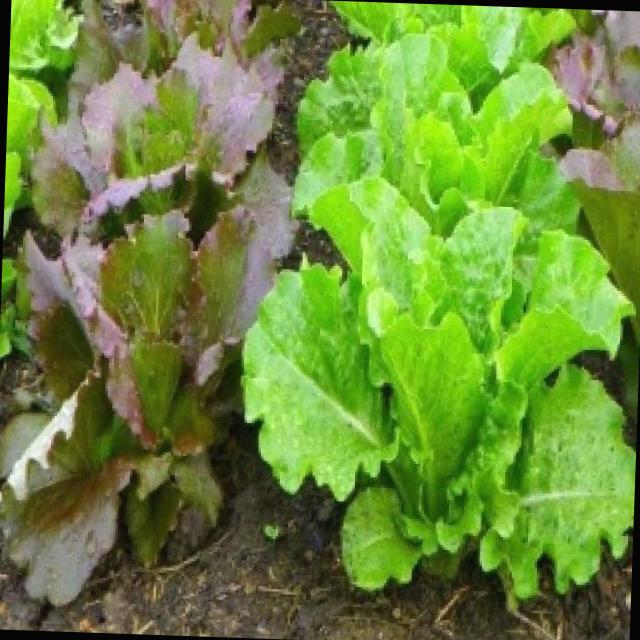Lettuce-Ready-to-Harvest: (243, 178, 636, 597), (1, 161, 293, 604), (295, 34, 578, 234), (32, 34, 281, 235), (332, 1, 574, 87)
